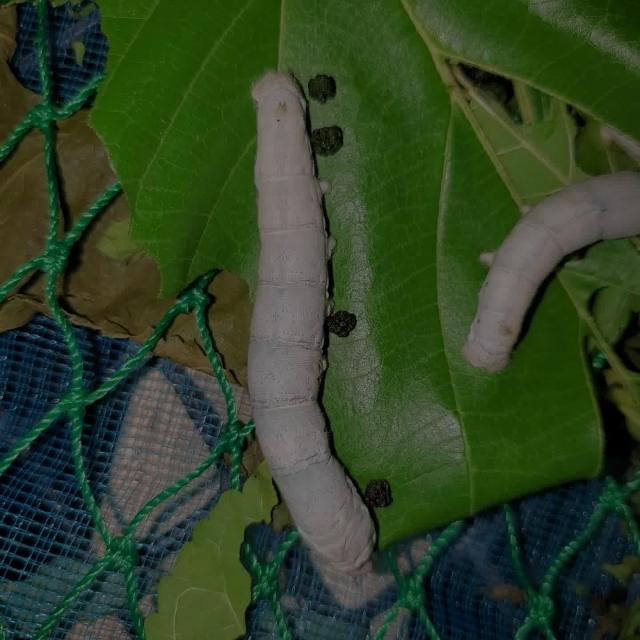Healthy: (228, 59, 396, 582)
